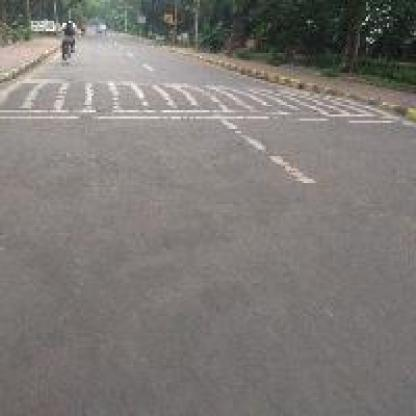Speed Bump: (2, 79, 364, 119)
